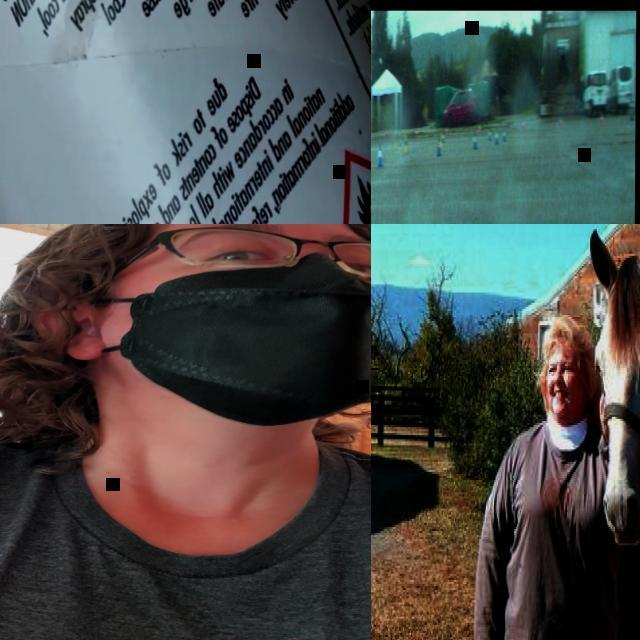mask: (89, 252, 371, 426)
no_helmet: (62, 224, 371, 245), (542, 316, 588, 360)
no_mask: (549, 382, 583, 419)
no_vest: (0, 442, 371, 640), (500, 431, 622, 640)
person: (0, 224, 371, 640), (473, 311, 617, 640)
safety_cone: (436, 136, 443, 156), (473, 128, 479, 150), (378, 143, 383, 167), (494, 125, 500, 145), (502, 125, 508, 144), (404, 132, 409, 153), (600, 112, 605, 125), (393, 135, 398, 148), (488, 126, 492, 140), (440, 132, 444, 146), (399, 133, 403, 147), (560, 115, 564, 127), (522, 118, 526, 130), (478, 122, 482, 134), (446, 124, 450, 136), (442, 131, 446, 143), (416, 128, 420, 138)
